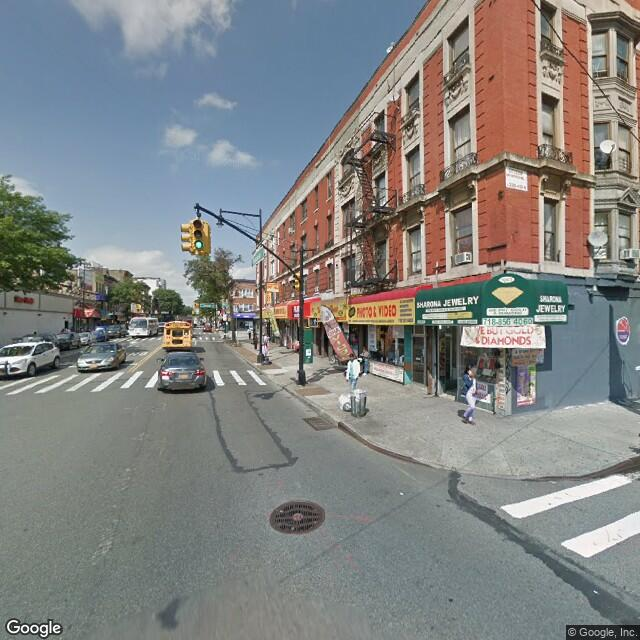litter: (334, 389, 360, 413), (396, 487, 424, 505)
